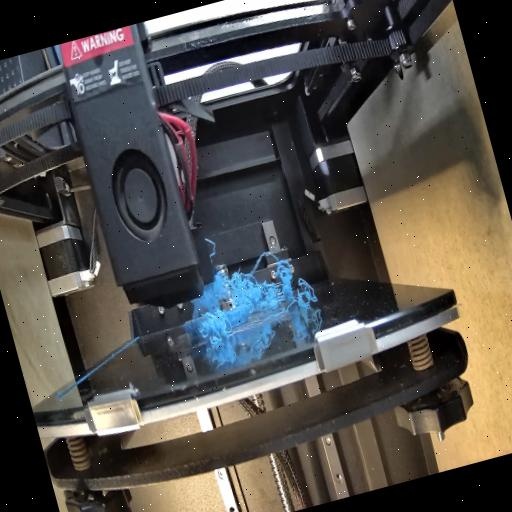spaghetti: (220, 254, 318, 328), (190, 274, 234, 318), (196, 308, 238, 350)
